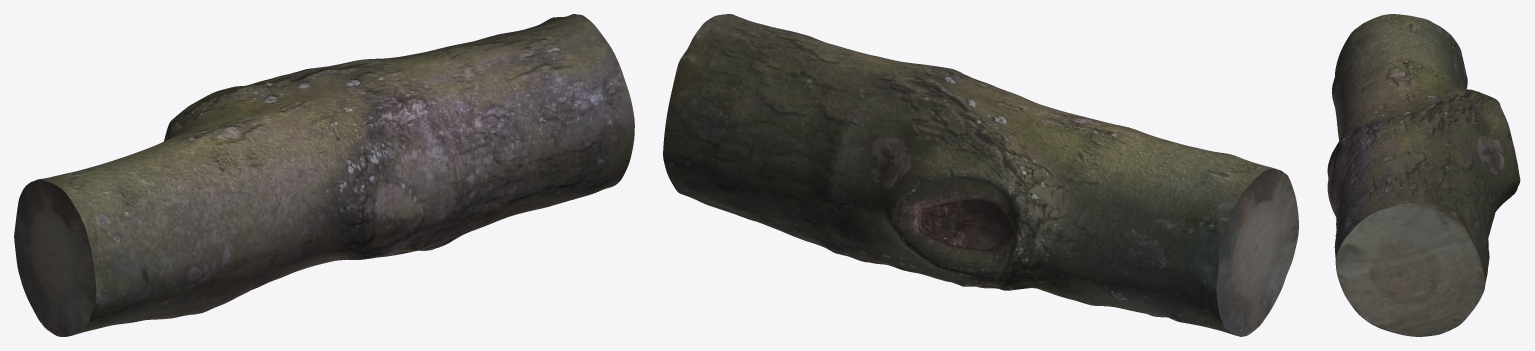
The model's file is log_highpoly.fbx.
3 renders of one model, left to right at view 1: azimuth 30°, elevation 25°; view 2: azimuth 150°, elevation 25°; view 3: azimuth 270°, elevation 25°, orthographic. The views are drawn at different scales.
Parts seen in each view (by area): view 1: Cylinder.002; view 2: Cylinder.002; view 3: Cylinder.002.
Boxes of the visible parts, x1=… form: Cylinder.002: x1=14, y1=14, x2=634, y2=336; Cylinder.002: x1=663, y1=14, x2=1298, y2=336; Cylinder.002: x1=1327, y1=14, x2=1520, y2=336.
Size of the model in its own units: 680 by 231 by 261.
